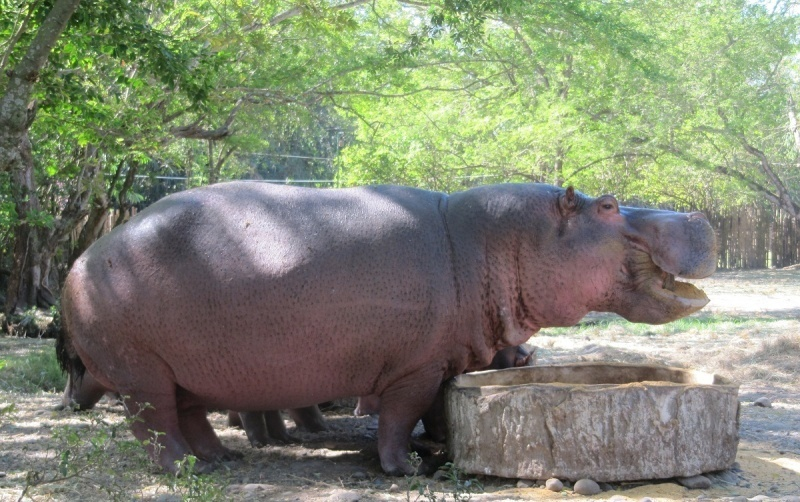hipopotamo: (42, 151, 737, 479)
